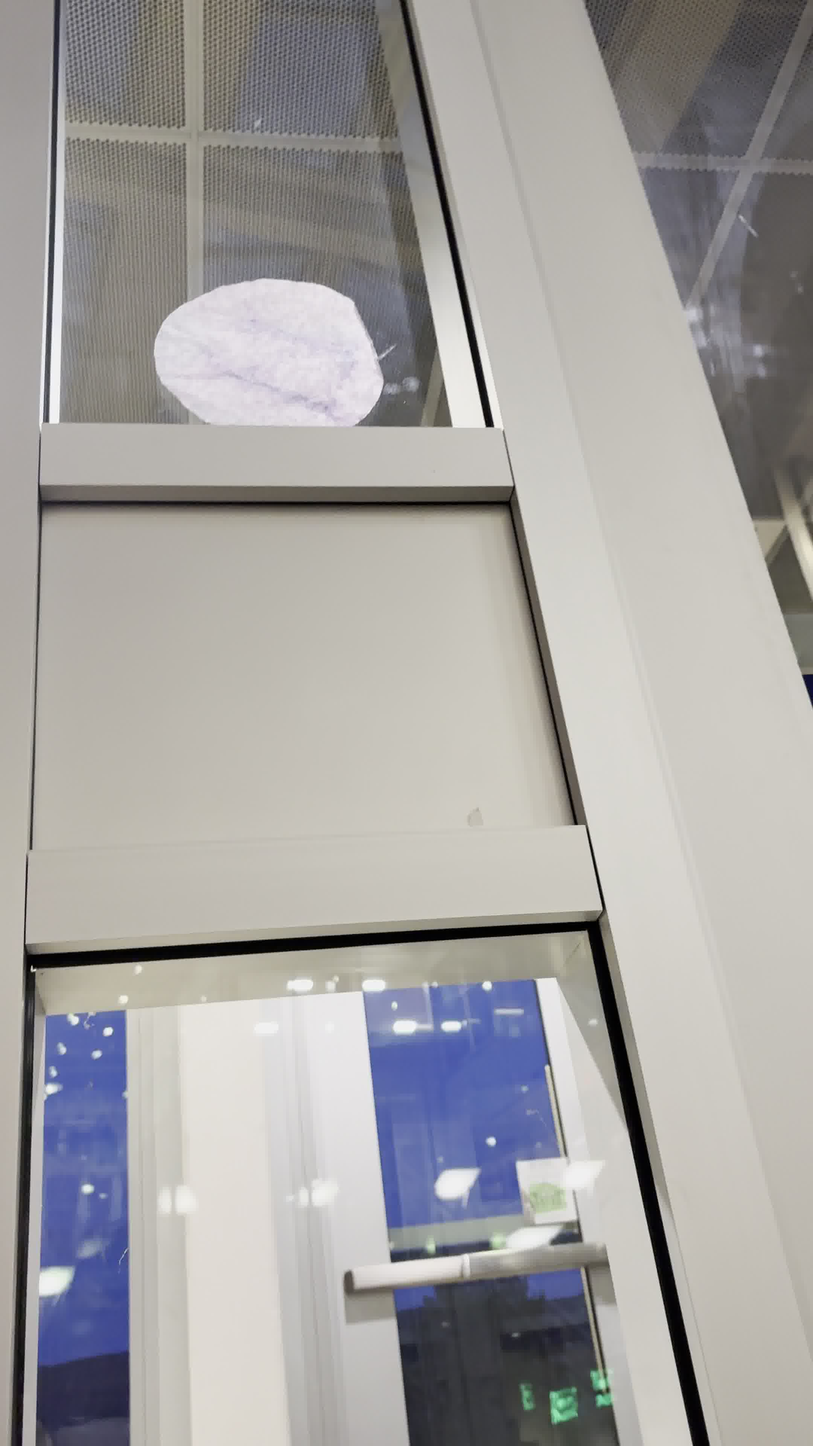Target: (151, 274, 390, 432)
